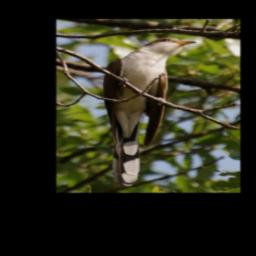Cuckoo: (100, 37, 198, 188)
